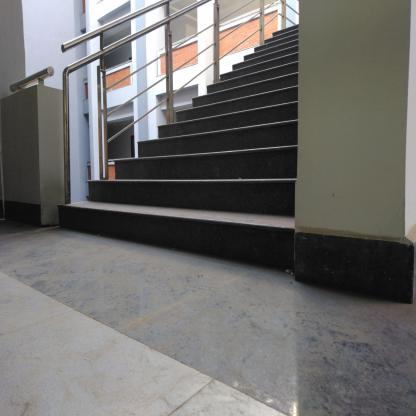stairs: (208, 85, 293, 279)
